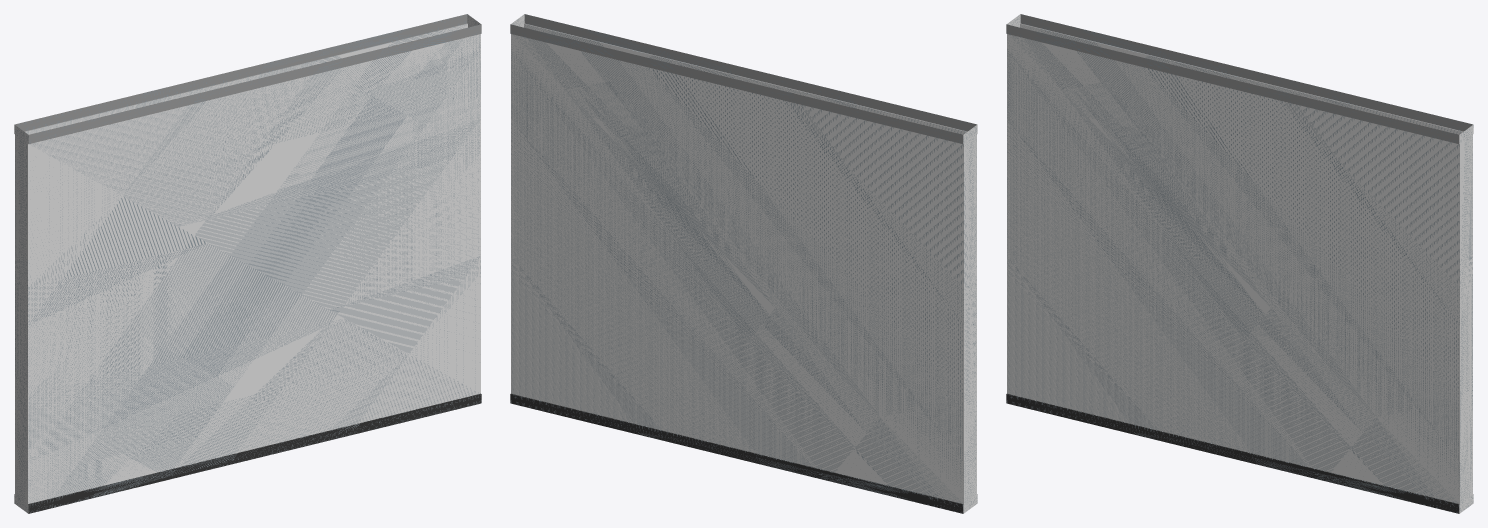
File: BlockWall_ds_plinth_5x4x025.dae
3 views of the same model, side by side, from view 1: azimuth 30°, elevation 25°; view 2: azimuth 150°, elevation 25°; view 3: azimuth 330°, elevation 25° (orthographic).
Parts seen in each view (by area): view 1: group_0 (×4); view 2: group_0 (×4); view 3: group_0 (×4).
Part boxes in pixels (x1=…): group_0 (×4): x1=14, y1=14, x2=481, y2=513; group_0 (×4): x1=510, y1=14, x2=977, y2=513; group_0 (×4): x1=1006, y1=14, x2=1473, y2=513.
Bounding box in the file's own units: 197 × 10.63 × 157.
